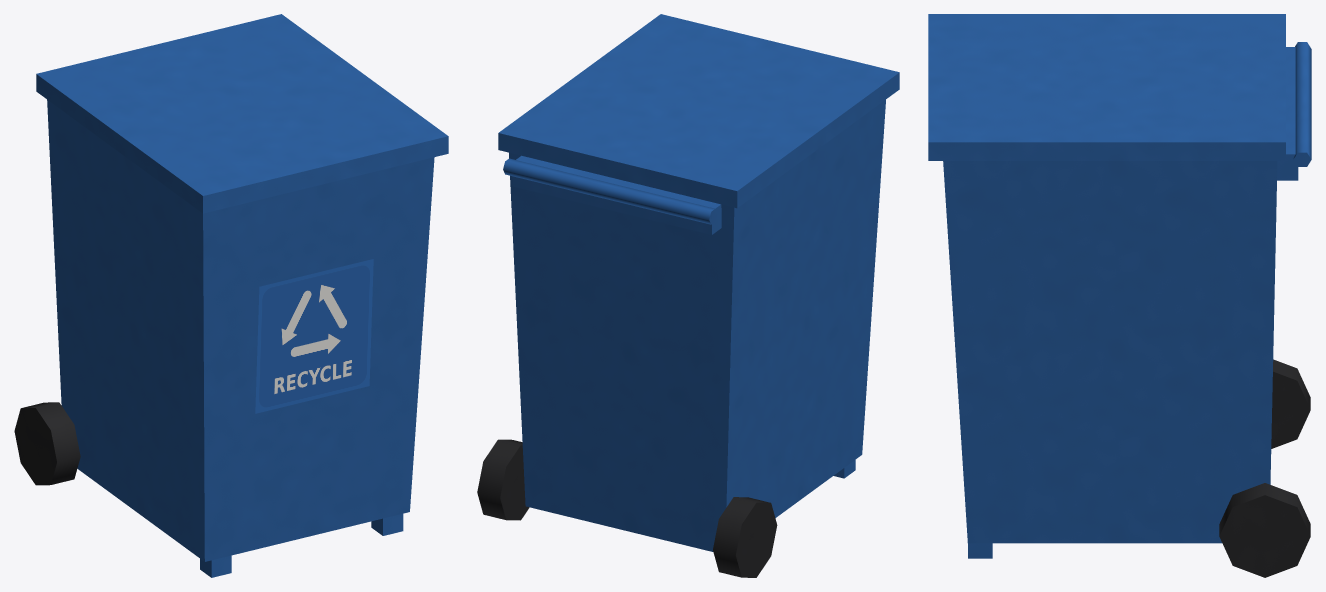
Rendered from recycling_bin.gltf.
The picture shows the model from 3 angles, left to right: view 1: azimuth 30°, elevation 25°; view 2: azimuth 150°, elevation 25°; view 3: azimuth 270°, elevation 25°; orthographic projection. The views are drawn at different scales.
Parts seen in each view (by area): view 1: recycling_bin; view 2: recycling_bin; view 3: recycling_bin.
Part boxes in pixels (x1,y1,x2,y2): recycling_bin: [14, 14, 448, 577]; recycling_bin: [477, 14, 899, 577]; recycling_bin: [928, 14, 1311, 577].
Bounding box in the file's own units: 0.79 × 1.14 × 0.922.
3 materials, 3 textured.
